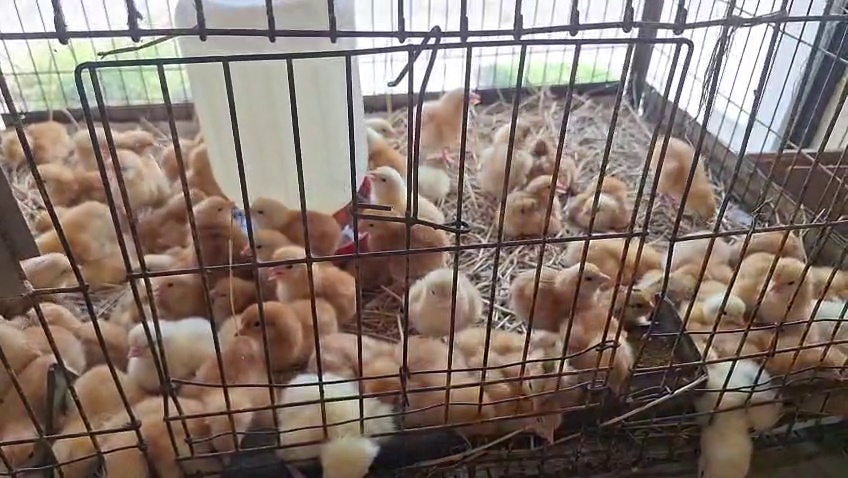Pollo: (278, 367, 413, 478), (178, 337, 276, 462), (683, 356, 782, 478), (40, 362, 142, 477), (517, 248, 624, 335), (402, 331, 486, 441), (229, 284, 334, 371), (20, 279, 135, 356), (269, 245, 368, 332), (489, 314, 588, 401), (106, 391, 205, 478), (310, 316, 409, 403), (123, 309, 221, 396), (548, 319, 646, 406), (646, 130, 735, 219), (399, 262, 487, 341), (358, 197, 447, 275), (741, 248, 819, 335), (499, 328, 583, 408), (418, 74, 494, 161), (99, 130, 178, 213), (475, 104, 550, 191), (0, 345, 51, 471), (29, 194, 123, 262), (480, 391, 578, 451), (371, 127, 461, 192), (494, 174, 574, 247), (183, 188, 257, 261), (572, 231, 675, 283), (692, 278, 772, 338), (668, 225, 751, 282), (776, 336, 848, 398), (567, 172, 641, 232), (29, 143, 103, 201), (146, 176, 206, 245), (608, 281, 681, 337), (365, 170, 454, 215), (137, 261, 208, 316), (251, 193, 353, 229), (0, 115, 68, 168), (215, 258, 270, 321), (245, 221, 300, 284), (67, 117, 152, 154), (536, 127, 591, 179), (161, 124, 211, 176), (186, 146, 236, 197), (370, 93, 420, 141), (21, 251, 76, 288), (126, 248, 189, 280)
